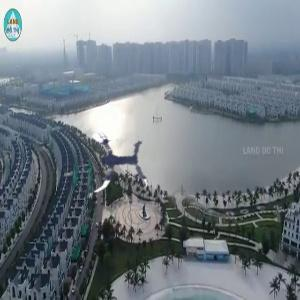drone: (79, 127, 150, 198)
